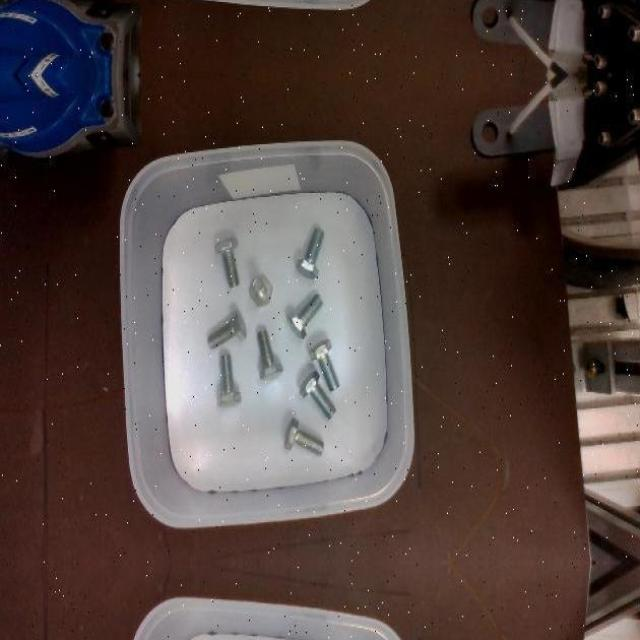screw: (300, 370, 336, 420), (288, 292, 324, 338), (207, 307, 247, 347), (296, 227, 326, 280), (309, 338, 339, 390), (285, 416, 325, 454), (256, 328, 283, 380), (217, 354, 242, 409), (214, 237, 240, 287), (249, 274, 272, 304)
